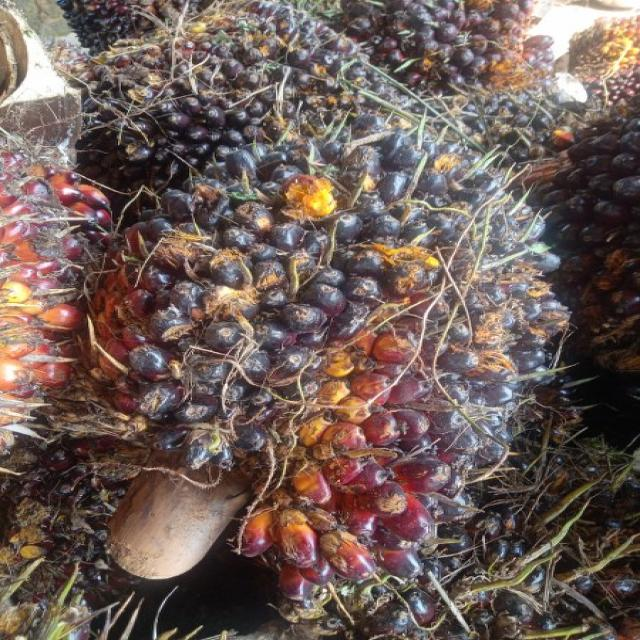fraksi 00: (59, 116, 565, 572)
